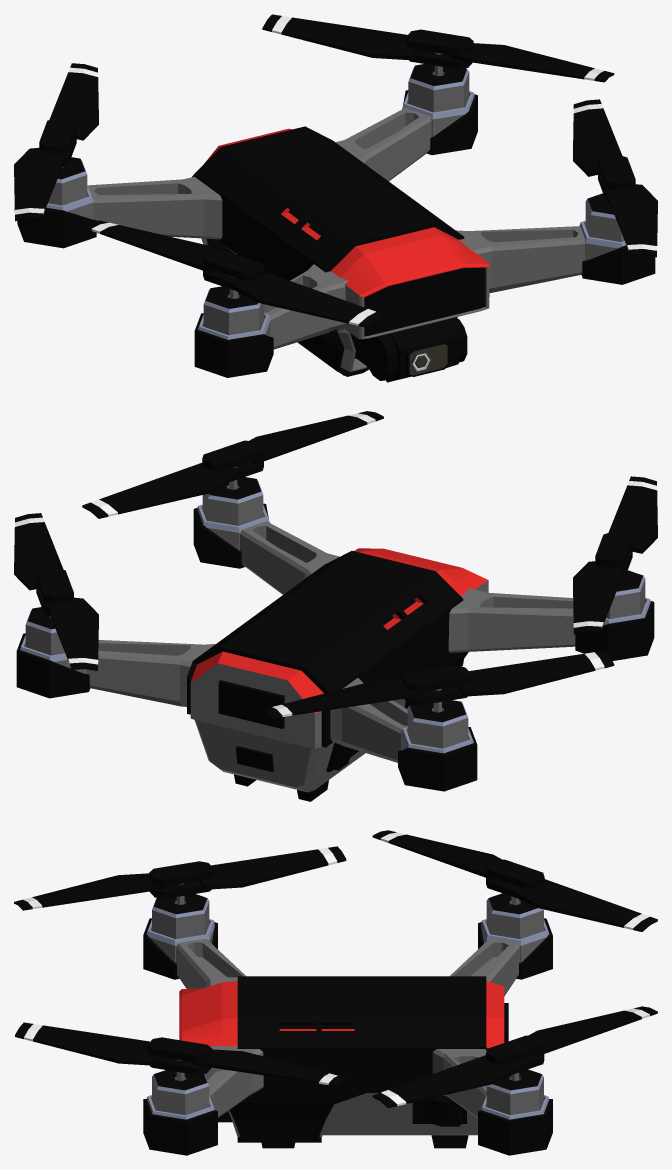
File: dji spark 3.fbx
3 views of the same model, one above another, from view 1: azimuth 30°, elevation 25°; view 2: azimuth 150°, elevation 25°; view 3: azimuth 270°, elevation 25° (orthographic). The views are drawn at different scales.
Visible parts, largest first — view 1: BODY.001, BODY.002, BODY.004, BODY.003, RL, BODY.005, FR, FL, RR; view 2: BODY.001, BODY.005, BODY.003, BODY.002, BODY.004, RR, FL, RL, FR; view 3: BODY.001, FL, FR, BODY.004, RL, RR, BODY.005, BODY.003, BODY.002.
Boxes of the visible parts, <box> form: BODY.001: <box>183,126,491,382</box>; BODY.002: <box>17,157,204,248</box>; BODY.004: <box>468,193,655,292</box>; BODY.003: <box>345,52,477,181</box>; RL: <box>262,14,614,82</box>; BODY.005: <box>194,270,329,377</box>; FR: <box>83,220,384,328</box>; FL: <box>573,99,657,257</box>; RR: <box>14,63,98,221</box>; BODY.001: <box>180,548,488,801</box>; BODY.005: <box>467,570,654,660</box>; BODY.003: <box>16,607,203,706</box>; BODY.002: <box>342,689,477,791</box>; BODY.004: <box>193,466,326,594</box>; RR: <box>262,650,614,718</box>; FL: <box>82,411,383,518</box>; RL: <box>14,513,98,670</box>; FR: <box>573,476,657,634</box>; BODY.001: <box>179,976,508,1148</box>; FL: <box>15,1022,347,1086</box>; FR: <box>14,846,346,910</box>; BODY.004: <box>143,1059,252,1155</box>; RL: <box>372,1006,657,1108</box>; RR: <box>372,830,657,931</box>; BODY.005: <box>143,883,245,988</box>; BODY.003: <box>443,1053,552,1155</box>; BODY.002: <box>450,893,552,995</box>.
Bounding box in the file's own units: 0.1379 × 0.0402 × 0.1359.
